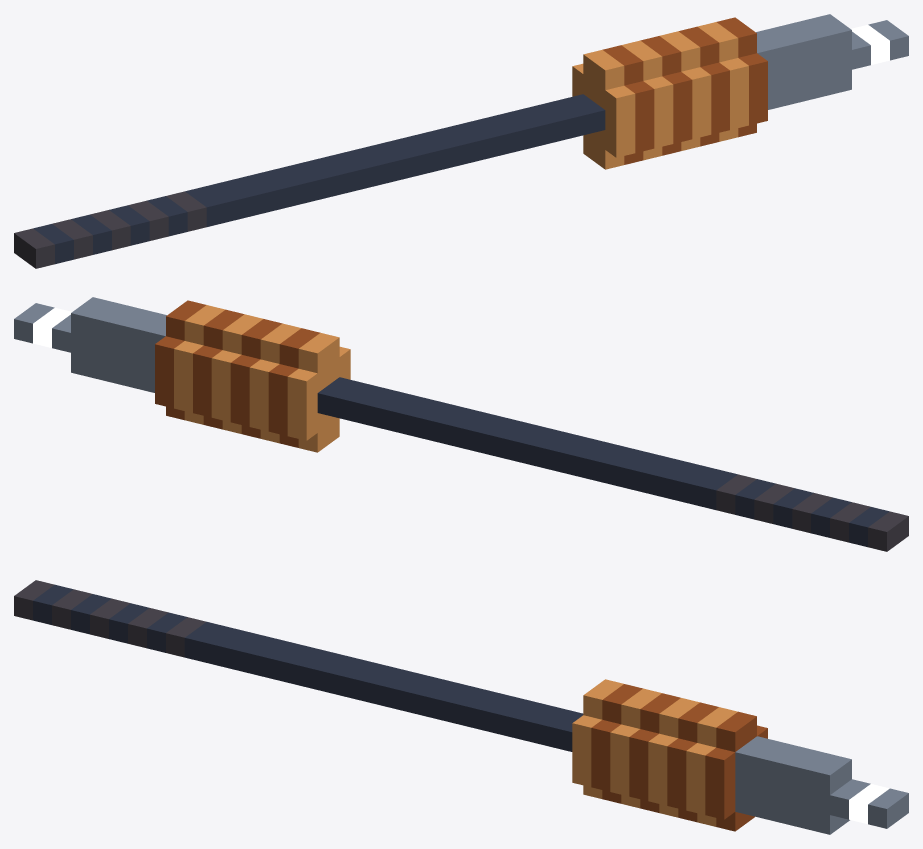
Rendered from shock_spear.glb.
3 renders of one model, top to bottom at view 1: azimuth 30°, elevation 25°; view 2: azimuth 150°, elevation 25°; view 3: azimuth 330°, elevation 25°, orthographic.
Parts seen in each view (by area): view 1: spear; view 2: spear; view 3: spear.
Part boxes in pixels (bbox=[...]): spear: bbox=[14, 14, 908, 268]; spear: bbox=[14, 297, 908, 551]; spear: bbox=[14, 580, 908, 834].
Bounding box in the file's own units: 2.88 × 0.3125 × 0.25.
Materials: 1 (1 with a texture image).
